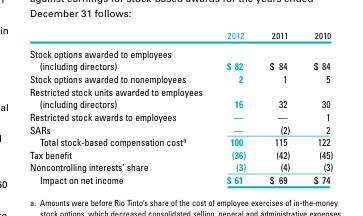table: (28, 29, 332, 185)
table column: (28, 29, 205, 185), (205, 29, 256, 185), (256, 29, 301, 185), (301, 29, 332, 185)
table column header: (28, 29, 332, 43)
table projected row header: (28, 84, 332, 97)
table row: (28, 43, 332, 71), (28, 29, 332, 43), (28, 71, 332, 84), (28, 84, 332, 97), (28, 109, 332, 122), (28, 134, 332, 147), (28, 147, 332, 160), (28, 172, 332, 185), (28, 97, 332, 109), (28, 122, 332, 134), (28, 160, 332, 172)
